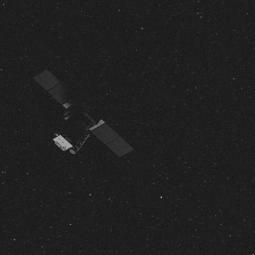soho: (41, 76, 125, 172)
